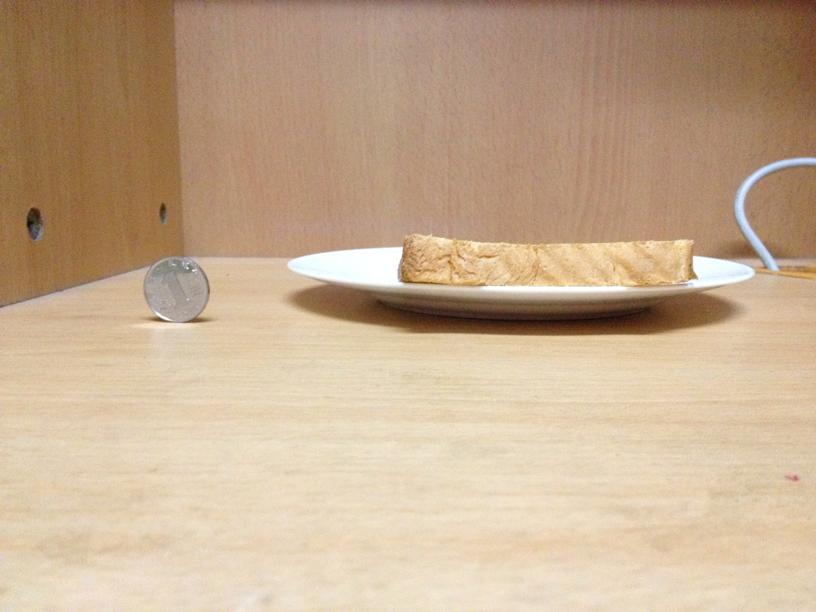bread: (391, 232, 700, 289)
coin: (139, 256, 210, 324)
